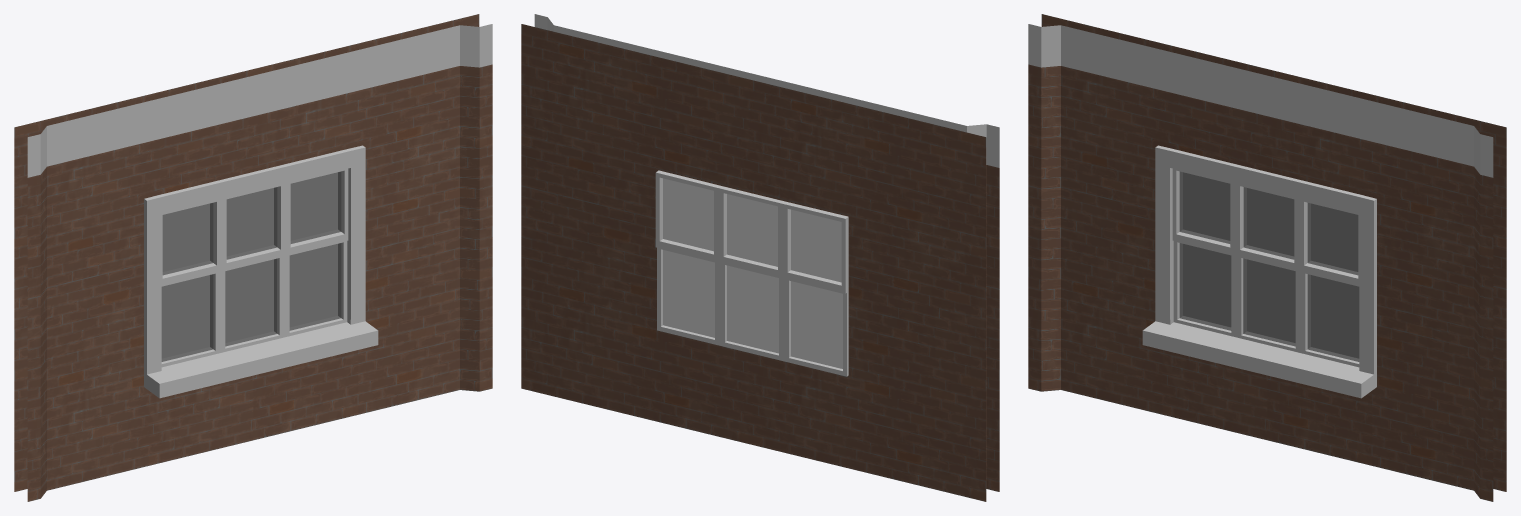
File: Brick_Inset_Window.gltf
The picture shows the model from 3 angles, left to right: view 1: azimuth 30°, elevation 25°; view 2: azimuth 150°, elevation 25°; view 3: azimuth 330°, elevation 25°; orthographic projection.
Parts seen in each view (by area): view 1: Brick_Inset_Window; view 2: Brick_Inset_Window; view 3: Brick_Inset_Window.
Part boxes in pixels (bbox=[...]): Brick_Inset_Window: bbox=[14, 14, 492, 501]; Brick_Inset_Window: bbox=[521, 14, 999, 501]; Brick_Inset_Window: bbox=[1028, 14, 1506, 501].
Bounding box in the file's own units: 4 × 3 × 0.3743.
